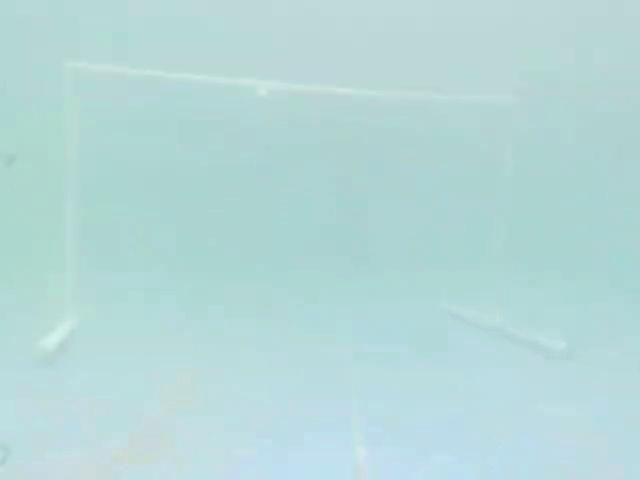gate: (25, 54, 577, 368)
